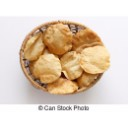poori: (30, 54, 62, 83), (42, 25, 72, 54), (81, 45, 111, 73), (60, 50, 84, 79), (74, 27, 101, 50), (47, 77, 79, 94), (24, 34, 44, 61)
